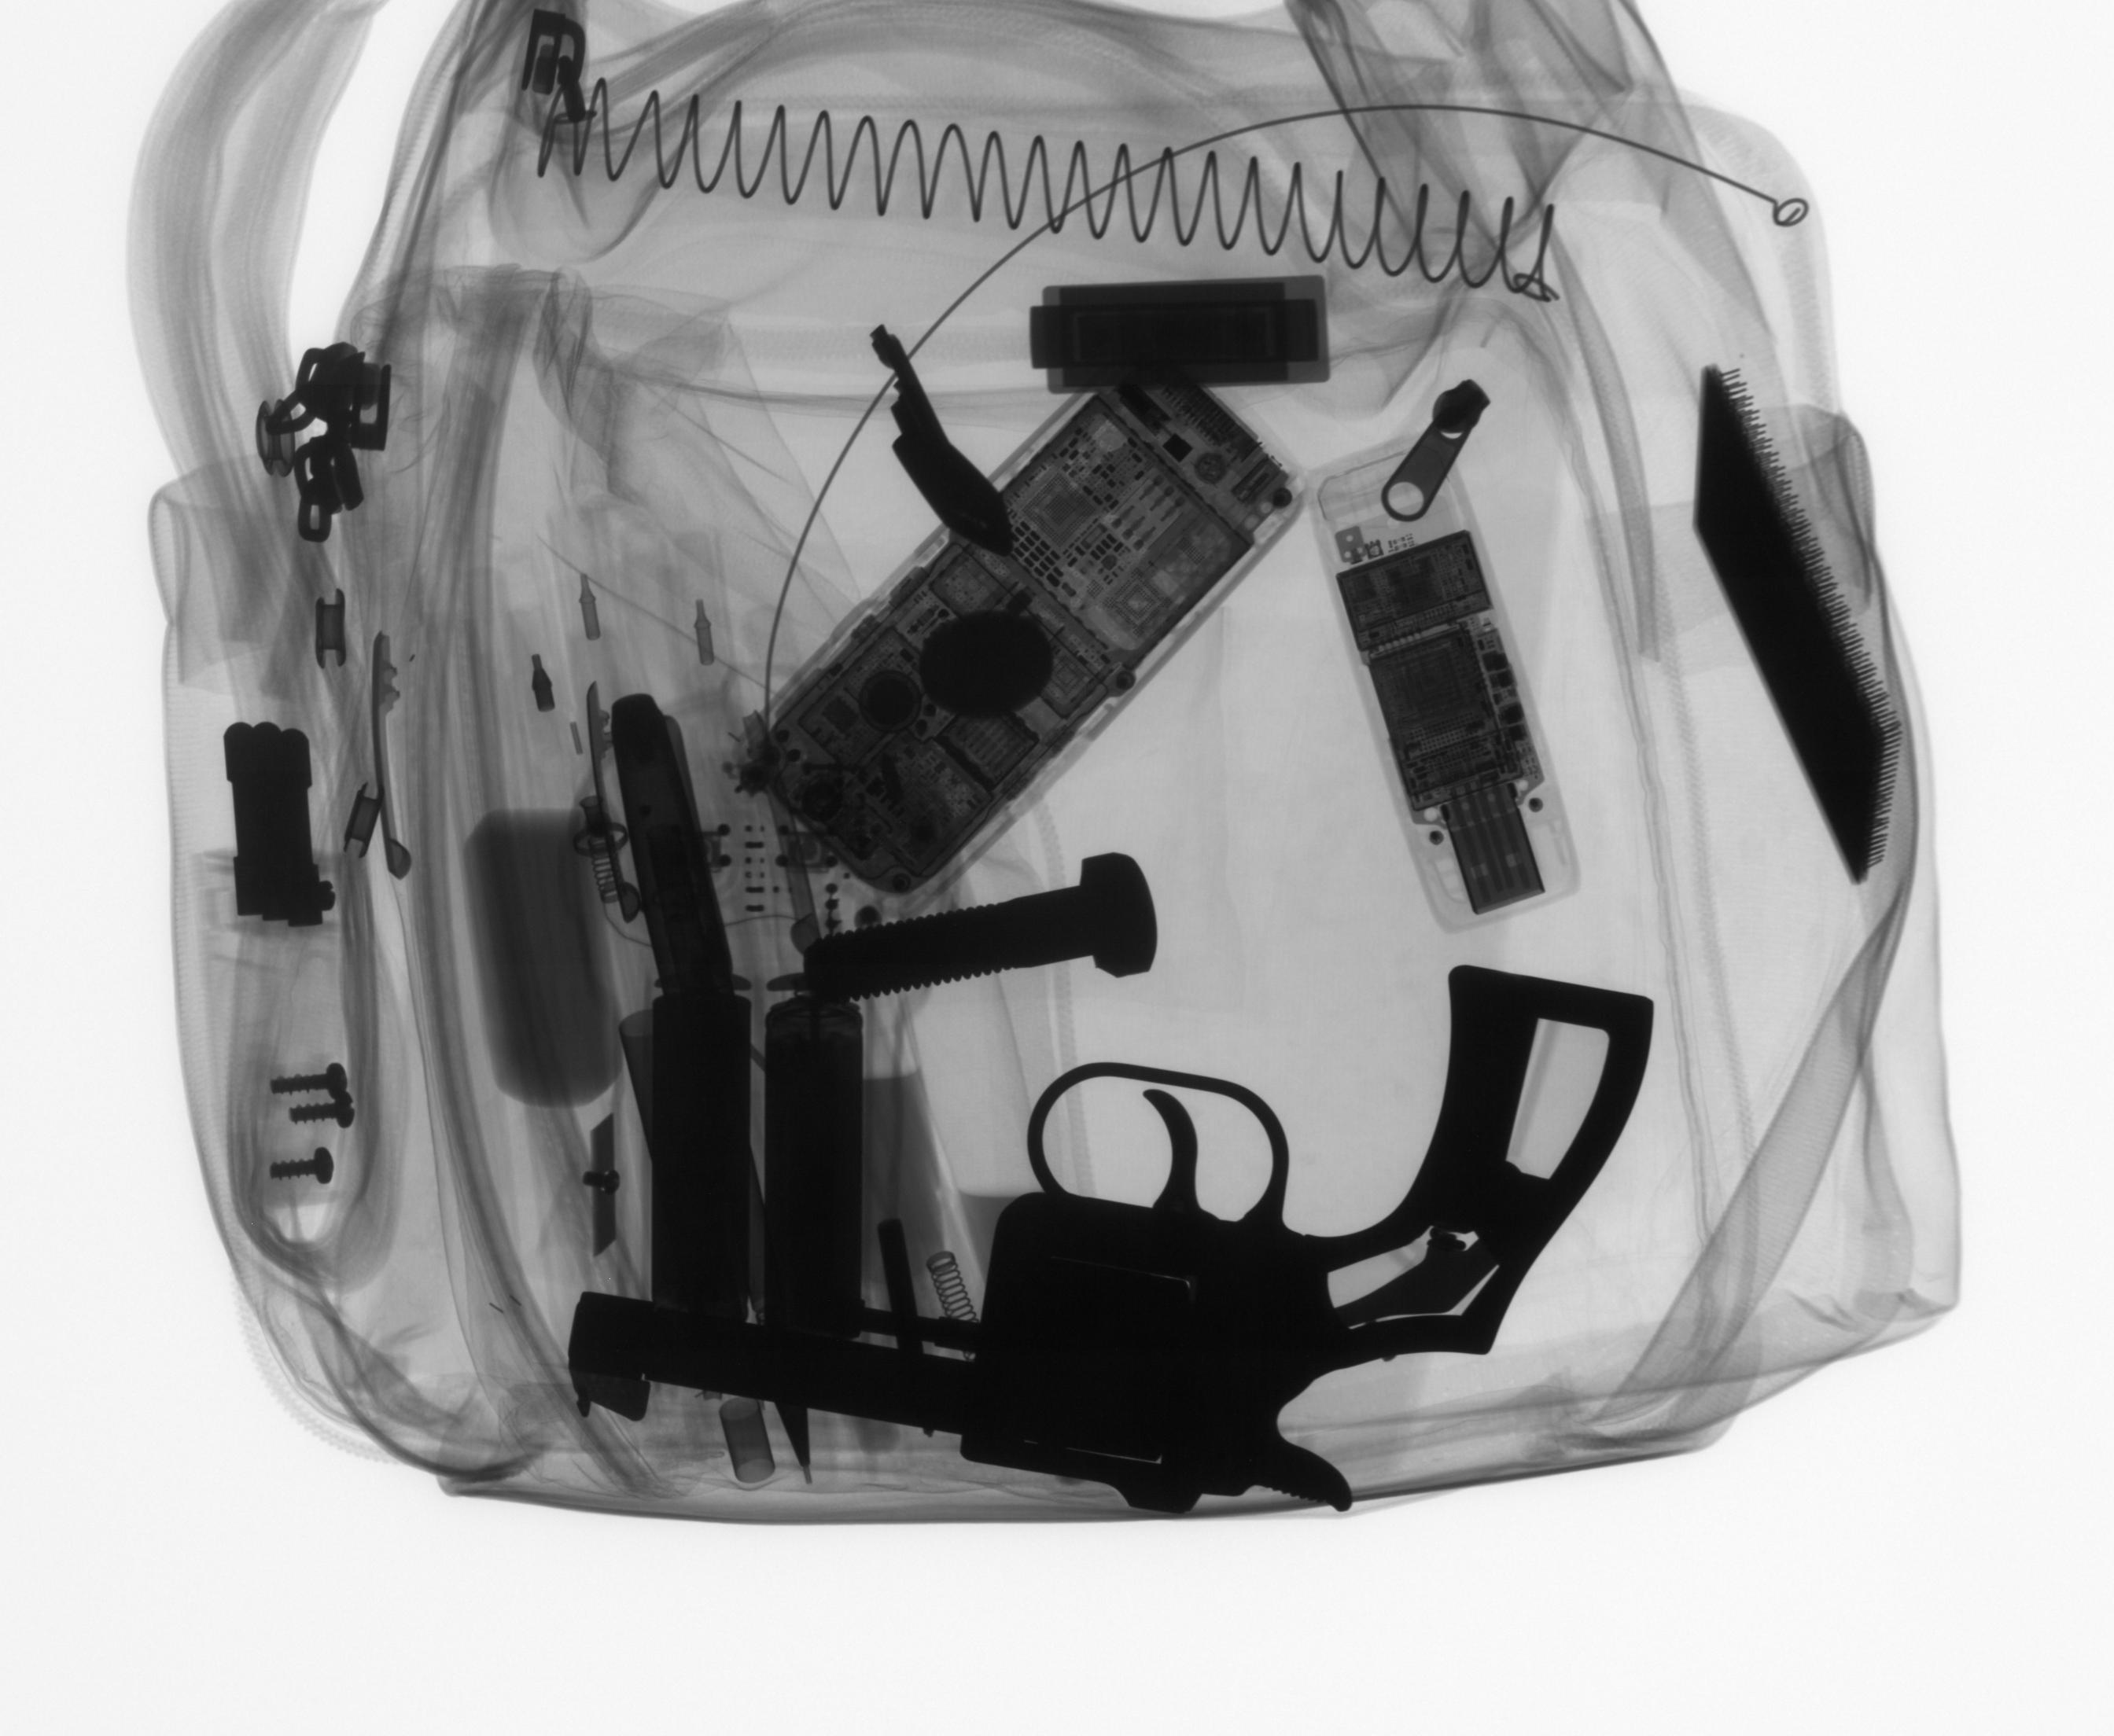Handgun: (554, 956, 1670, 1529)
